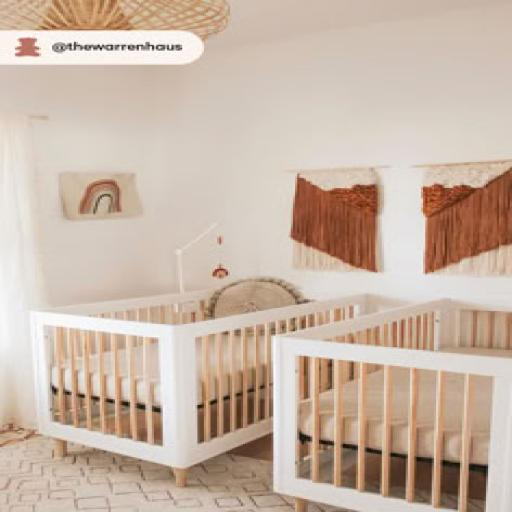crib: (33, 291, 366, 485), (274, 300, 511, 511)
